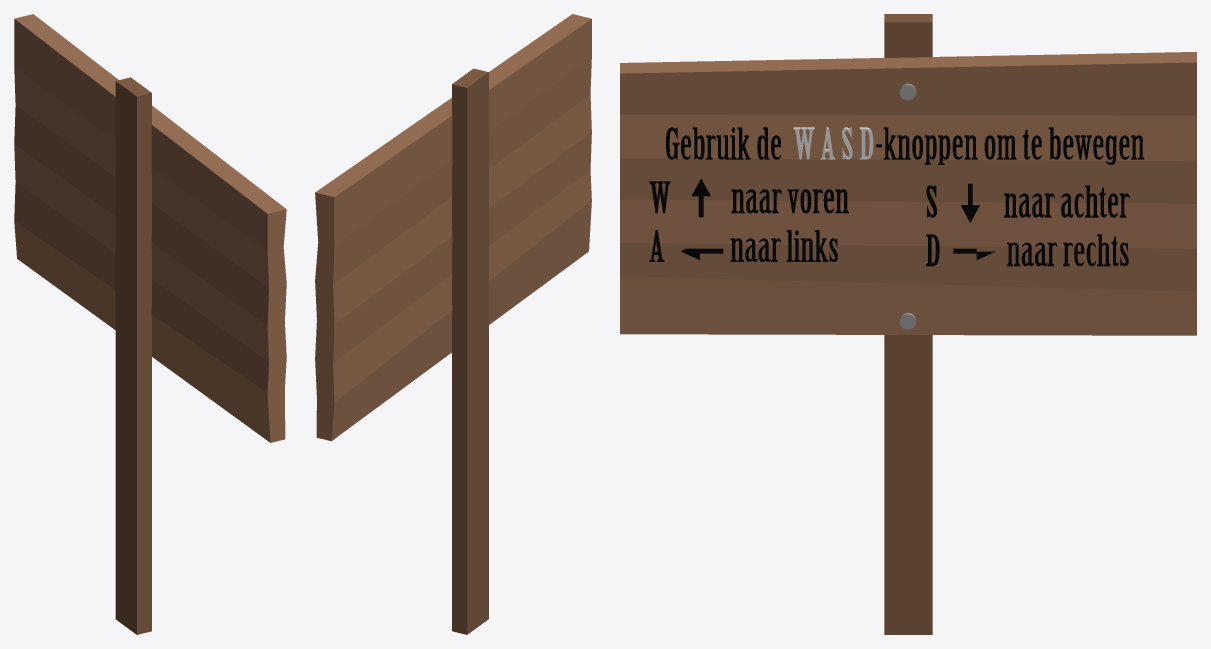
File: Bord_WASD.fbx
The picture shows the model from 3 angles, left to right: view 1: azimuth 30°, elevation 25°; view 2: azimuth 150°, elevation 25°; view 3: azimuth 270°, elevation 25°; orthographic projection. The views are drawn at different scales.
Visible parts, largest first — view 1: Cube, Cube.001; view 2: Cube, Cube.001; view 3: Cube, Cube.001, MAIN TEXT, Subtexr.001, Subtexr.
Part boxes in pixels (x1,y1,x2,y2): Cube: (14, 14, 286, 442); Cube.001: (115, 77, 151, 634); Cube: (315, 14, 591, 441); Cube.001: (452, 68, 488, 634); Cube: (620, 52, 1196, 335); Cube.001: (884, 14, 932, 634); MAIN TEXT: (666, 127, 1144, 164); Subtexr.001: (926, 185, 1129, 266); Subtexr: (649, 181, 848, 261).
Bounding box in the file's own units: 33.51 × 466 × 398.
